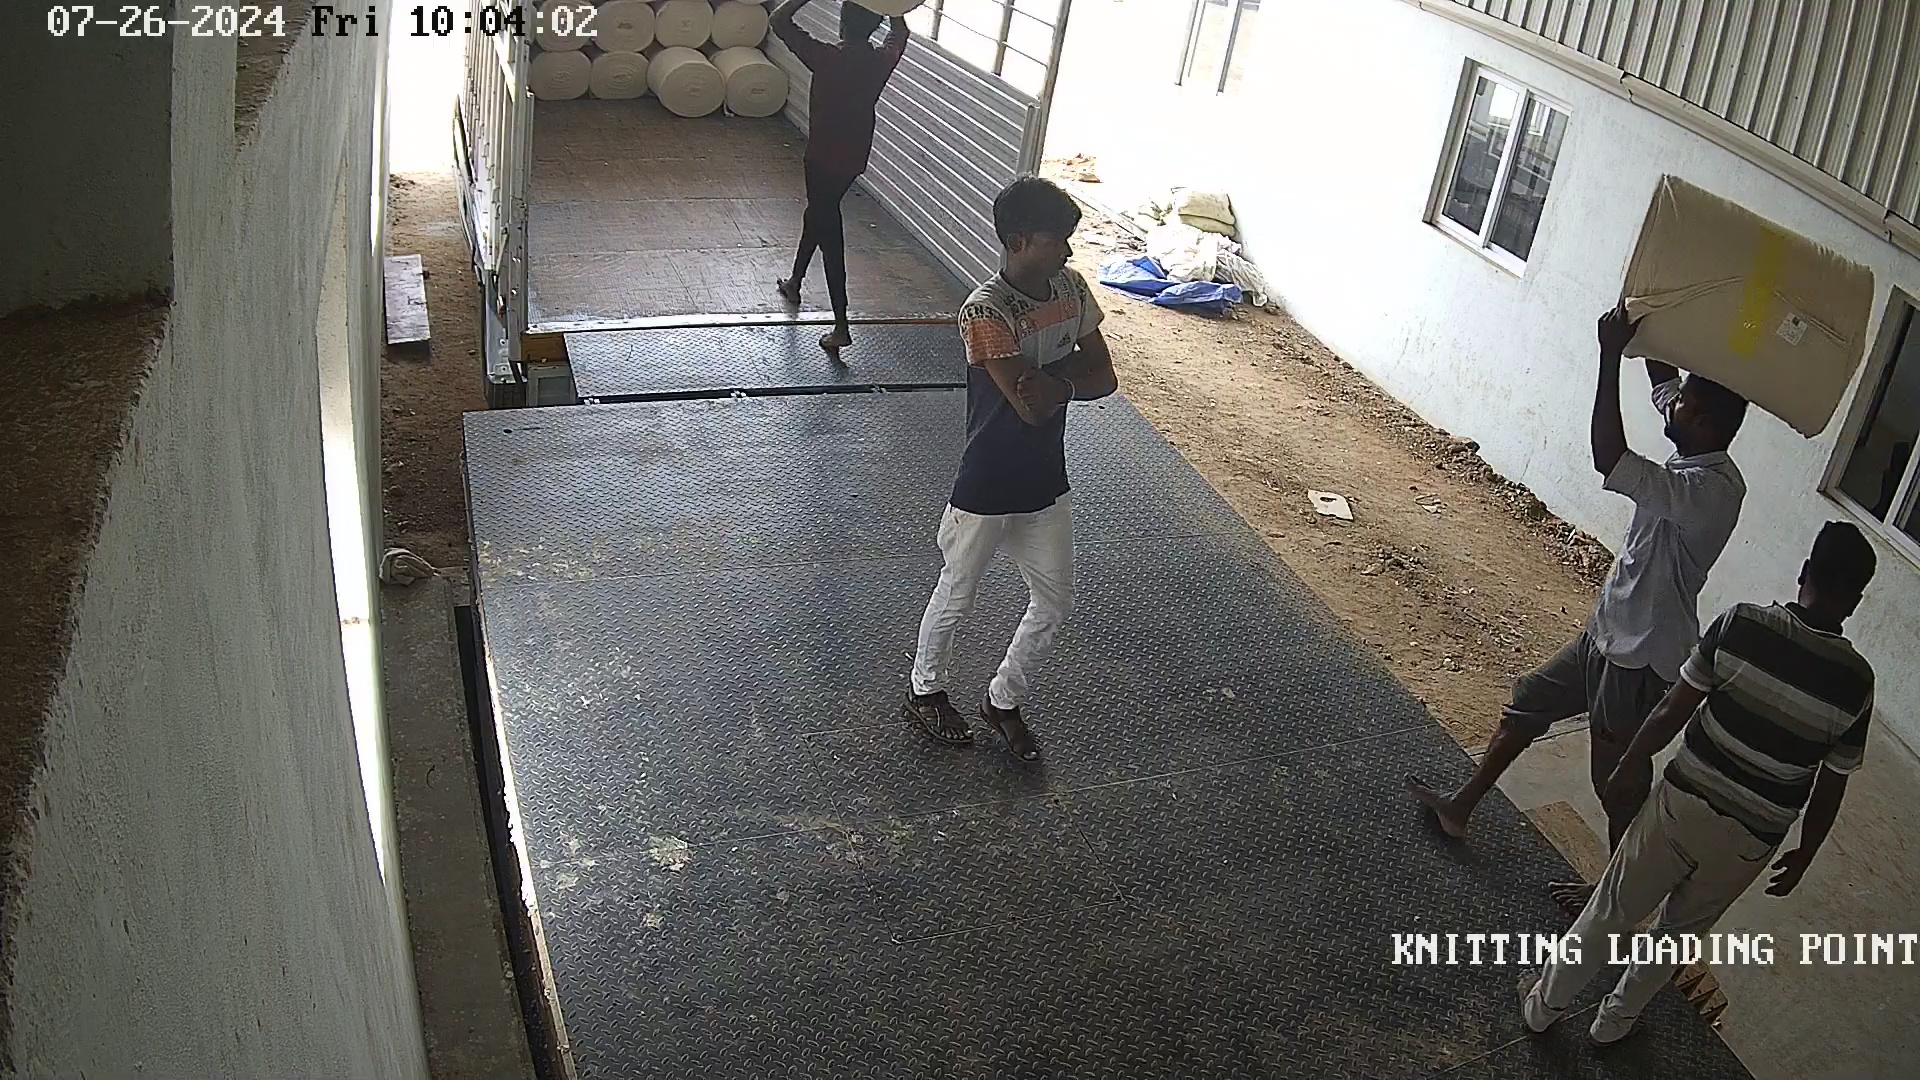bag: (1614, 164, 1879, 448)
